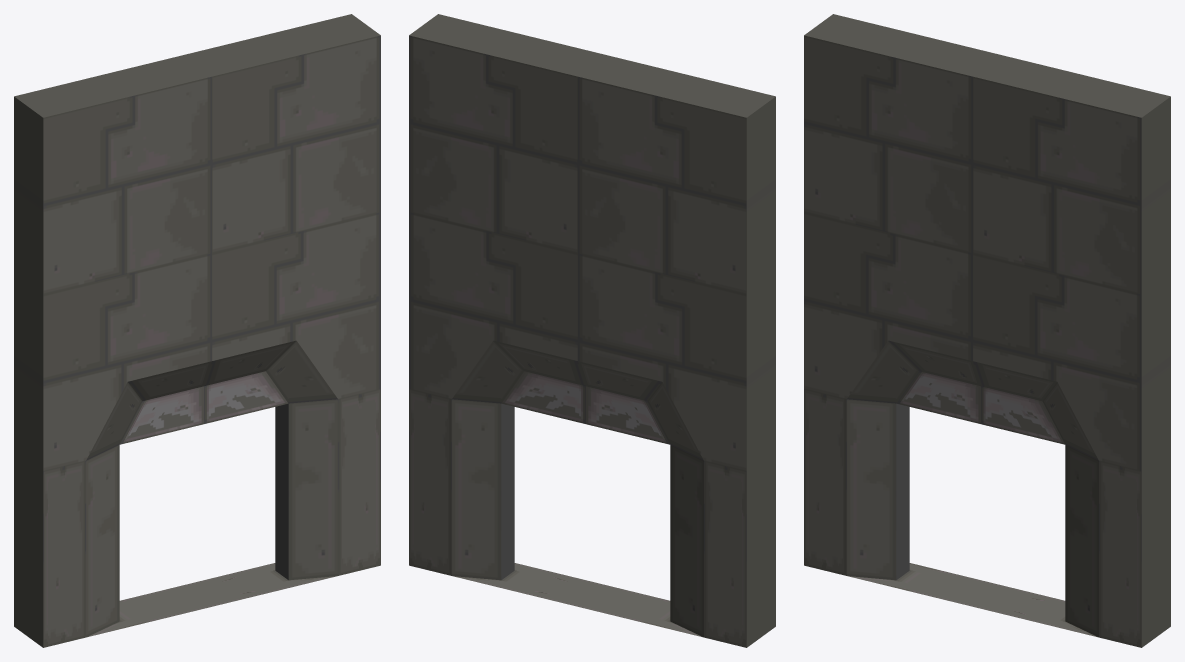
File: Wall2.fbx
The picture shows the model from 3 angles, left to right: view 1: azimuth 30°, elevation 25°; view 2: azimuth 150°, elevation 25°; view 3: azimuth 330°, elevation 25°; orthographic projection.
Visible parts, largest first — view 1: Wall2; view 2: Wall2; view 3: Wall2.
Boxes of the visible parts, x1,y1,x2,y2 form: Wall2: [14, 14, 380, 647]; Wall2: [409, 14, 775, 647]; Wall2: [804, 14, 1170, 647].
Size of the model in its own units: 4 by 6 by 0.6.
Materials: 1 (1 with a texture image).
